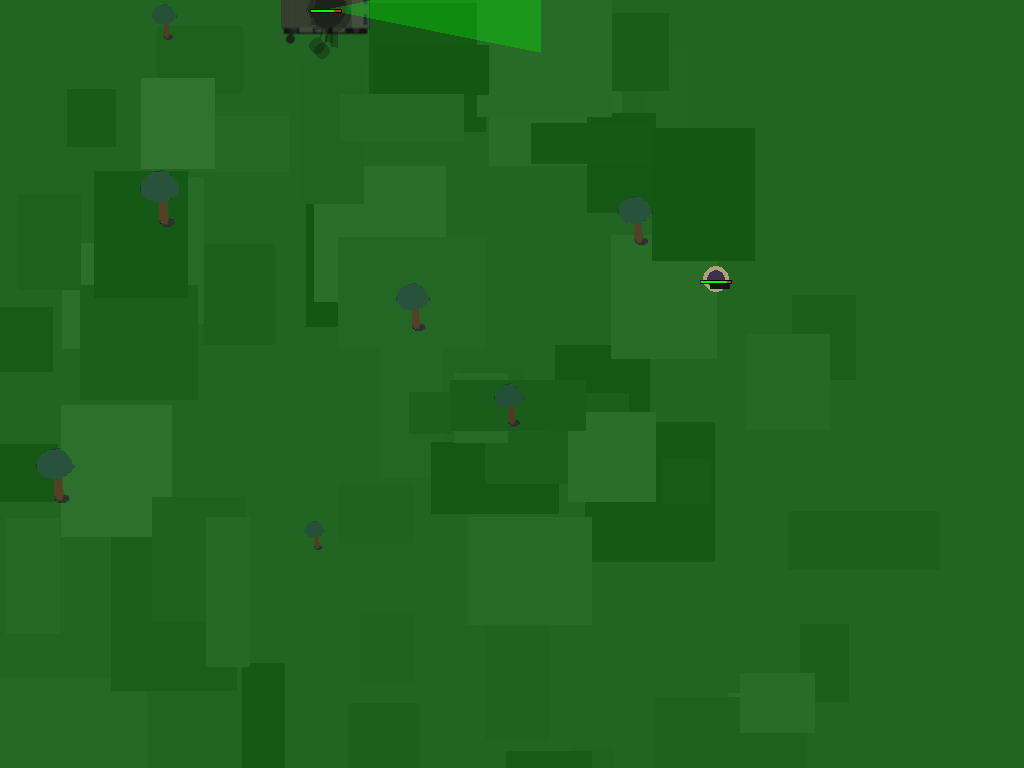RadarBuilding: (277, 0, 376, 99)
RocketTrooper: (696, 259, 736, 299)
